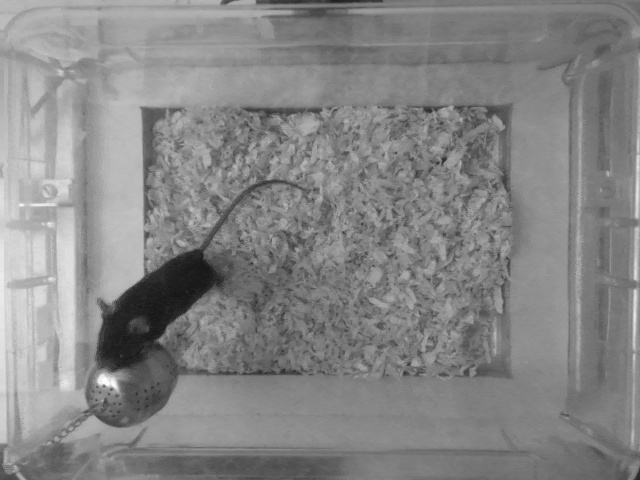mice: (92, 174, 312, 372)
